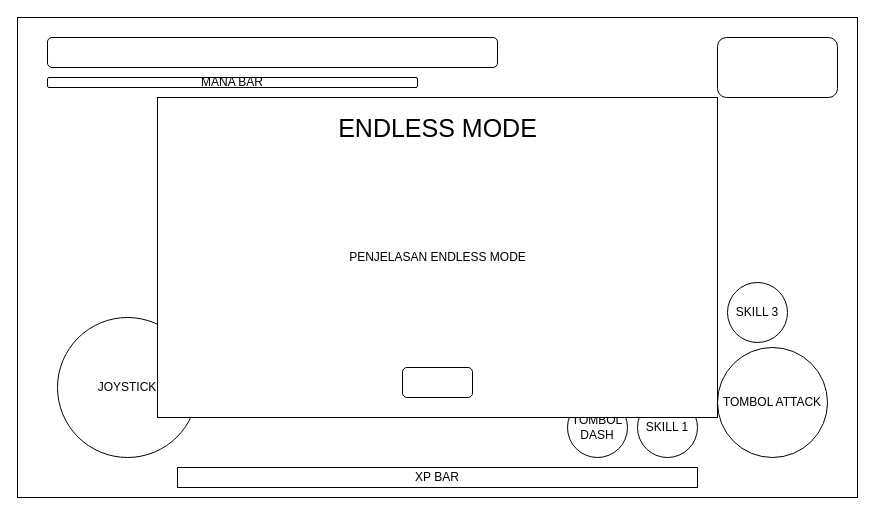
Some shapes in this 875 by 515 pixel diagram are drawn without their labels. Each missing label, with the centre of its shape:
"HEALTH BAR" goes at point (272, 52).
"MENU" goes at point (777, 67).
"OK" goes at point (437, 382).
